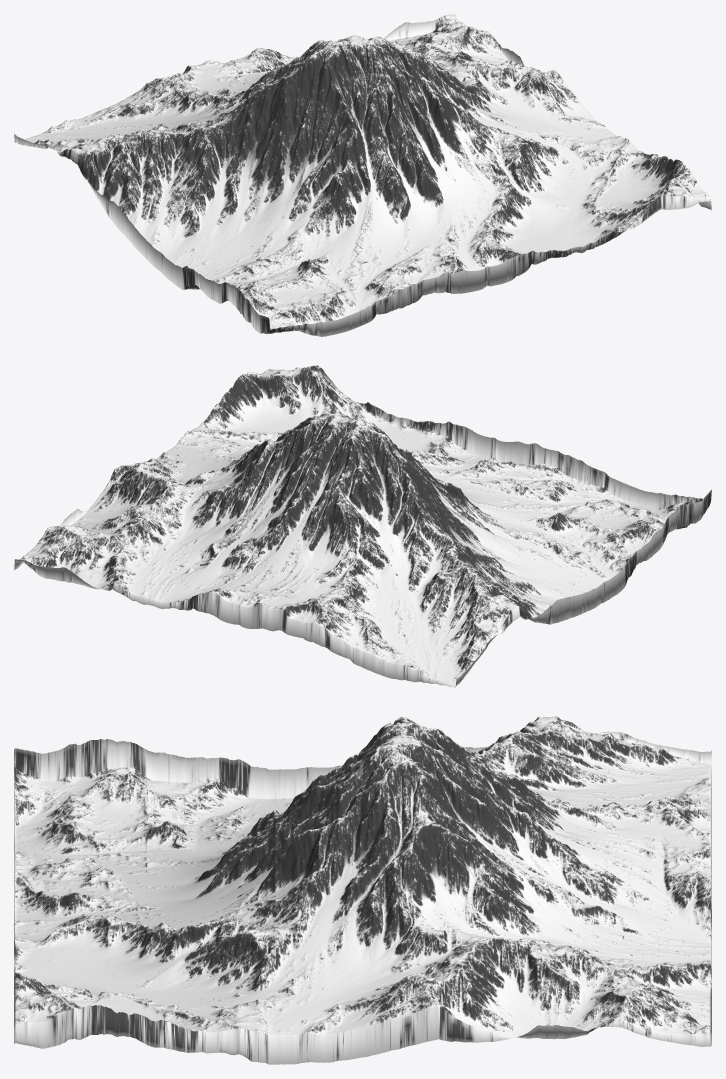
File: Mountain6.glb
The picture shows the model from 3 angles, top to bottom: view 1: azimuth 30°, elevation 25°; view 2: azimuth 150°, elevation 25°; view 3: azimuth 270°, elevation 25°; orthographic projection. The views are drawn at different scales.
Parts seen in each view (by area): view 1: Plane; view 2: Plane; view 3: Plane.
Boxes of the visible parts, box(x1,y1,x2,y2) form: Plane: box(14, 14, 711, 336); Plane: box(14, 365, 711, 687); Plane: box(14, 716, 711, 1064).
Size of the model in its own units: 15.81 by 5.39 by 15.81.
Materials: 1 (1 with a texture image).
